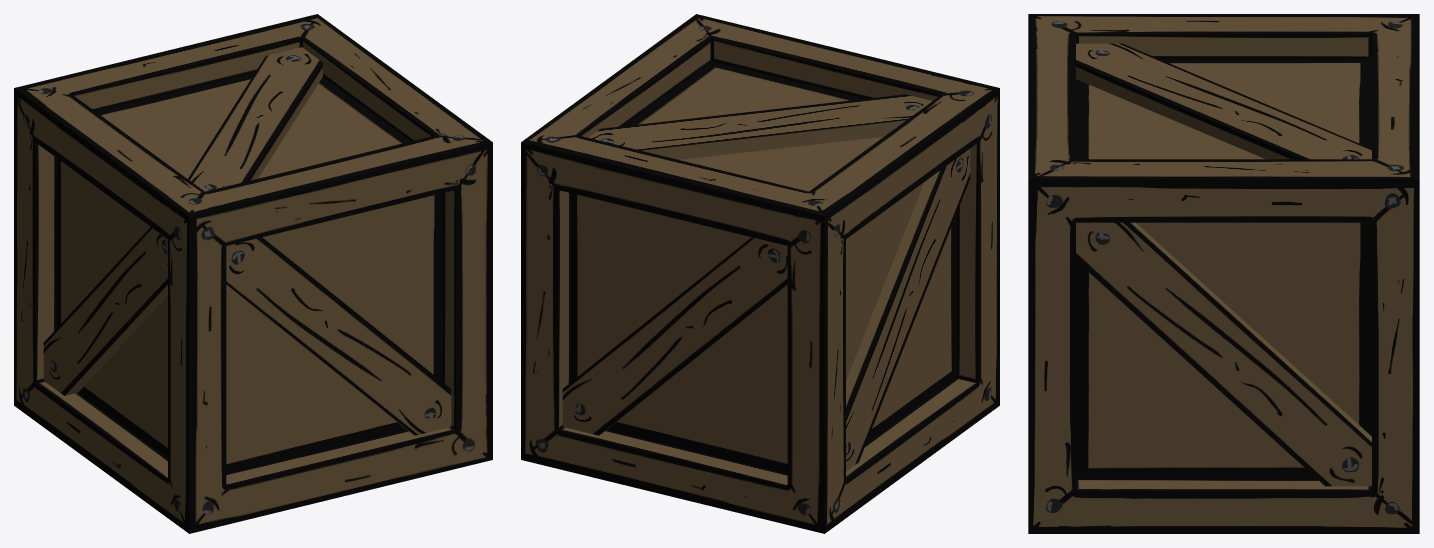
File: SM_Crate.fbx
The picture shows the model from 3 angles, left to right: view 1: azimuth 30°, elevation 25°; view 2: azimuth 150°, elevation 25°; view 3: azimuth 270°, elevation 25°; orthographic projection. The views are drawn at different scales.
Visible parts, largest first — view 1: SM_Crate_Small; view 2: SM_Crate_Small; view 3: SM_Crate_Small.
Boxes of the visible parts, <box> form: SM_Crate_Small: <box>14,14,492,533</box>; SM_Crate_Small: <box>521,14,999,533</box>; SM_Crate_Small: <box>1028,14,1419,533</box>.
Bounding box in the file's own units: 200 × 200 × 200.
